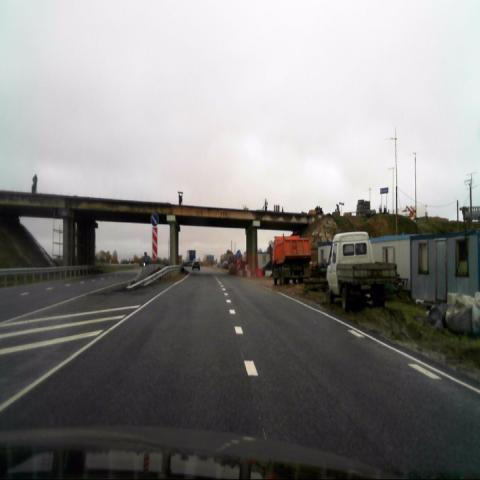4_2_1: (150, 213, 159, 227)
